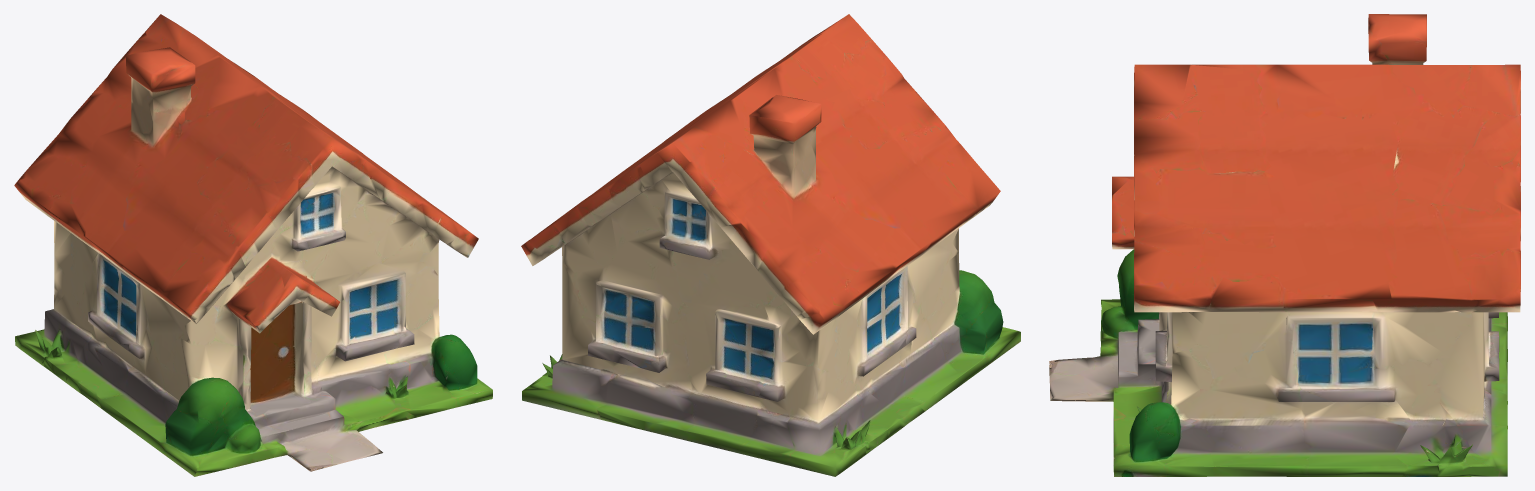
File: casinha.glb
3 views of the same model, side by side, from view 1: azimuth 30°, elevation 25°; view 2: azimuth 150°, elevation 25°; view 3: azimuth 270°, elevation 25° (orthographic). The views are drawn at different scales.
Size of the model in its own units: 1.63 by 1.51 by 1.9.
1 material, 1 textured.
